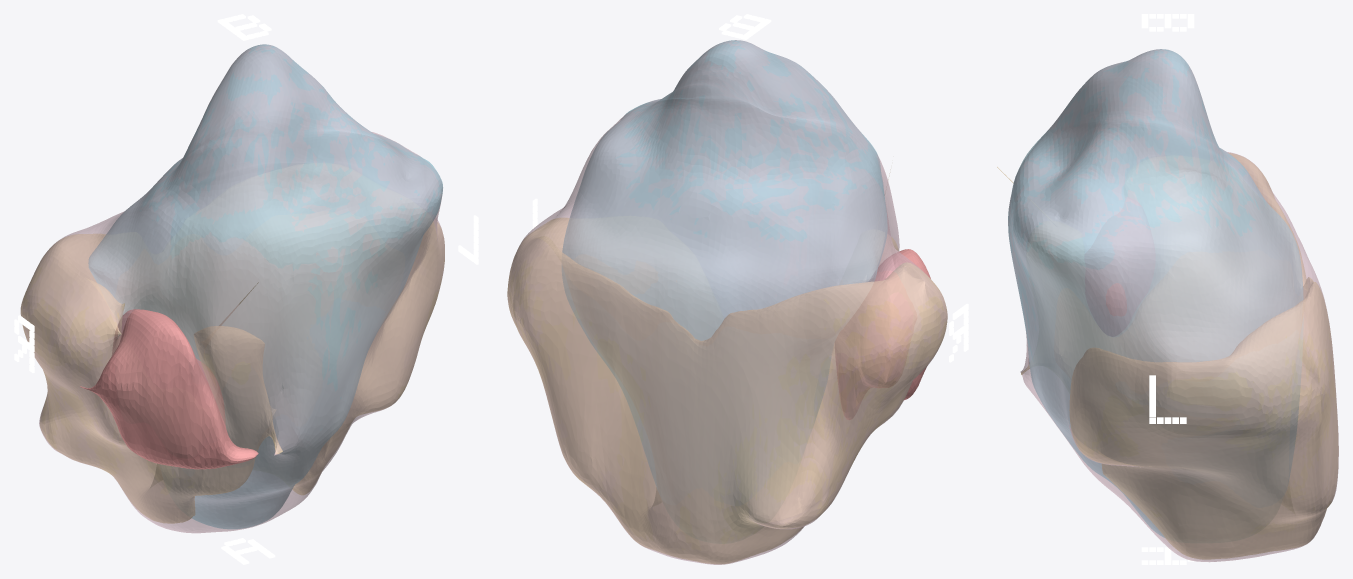
The picture shows the model from 3 angles, left to right: view 1: azimuth 30°, elevation 25°; view 2: azimuth 150°, elevation 25°; view 3: azimuth 270°, elevation 25°; orthographic projection. The views are drawn at different scales.
Parts seen in each view (by area): view 1: prostate_gland, transition_zone, peripheral_zone, lesion_01, pv_ar_marker_B, pv_ar_marker_R, pv_ar_marker_A; view 2: prostate_gland, peripheral_zone, transition_zone, lesion_01, pv_ar_marker_B, pv_ar_marker_R; view 3: prostate_gland, transition_zone, peripheral_zone, lesion_01, pv_ar_marker_B, pv_ar_marker_L, pv_ar_marker_A.
Boxes of the visible parts, box(x1,y1,x2,y2) form: prostate_gland: box(20, 44, 444, 533); transition_zone: box(88, 44, 442, 528); peripheral_zone: box(21, 221, 444, 523); lesion_01: box(80, 309, 258, 469); pv_ar_marker_B: box(217, 14, 271, 40); pv_ar_marker_R: box(14, 315, 34, 372); pv_ar_marker_A: box(221, 538, 275, 564); prostate_gland: box(507, 40, 947, 564); peripheral_zone: box(507, 179, 947, 563); transition_zone: box(562, 40, 887, 488); lesion_01: box(835, 249, 930, 419); pv_ar_marker_B: box(719, 14, 771, 39); pv_ar_marker_R: box(949, 303, 968, 362); prostate_gland: box(1008, 49, 1338, 562); transition_zone: box(1008, 49, 1303, 537); peripheral_zone: box(997, 153, 1338, 559); lesion_01: box(1085, 197, 1154, 336); pv_ar_marker_B: box(1141, 14, 1194, 31); pv_ar_marker_L: box(1149, 375, 1186, 423); pv_ar_marker_A: box(1141, 547, 1194, 564).
Size of the model in its own units: 0.0465 by 0.0524 by 0.0303.
